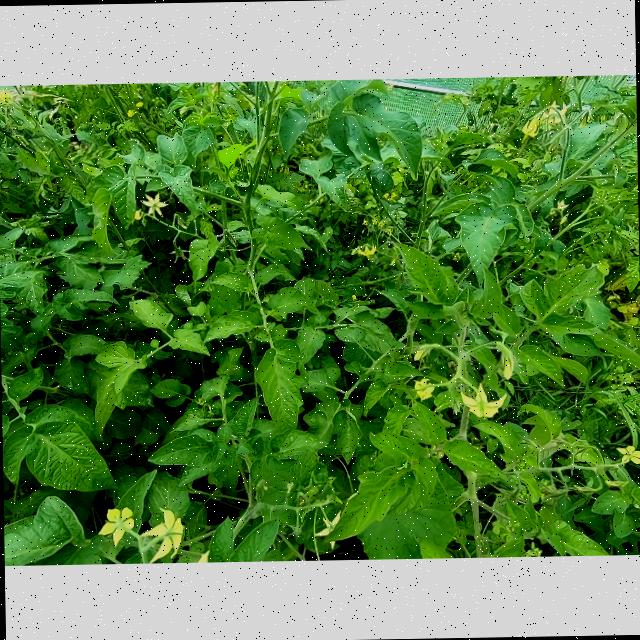Flowers: (139, 508, 184, 562), (458, 380, 506, 418), (98, 506, 134, 548), (314, 511, 339, 549), (540, 100, 566, 128), (140, 192, 168, 218), (496, 346, 516, 382), (614, 443, 640, 465), (413, 377, 435, 401), (518, 114, 536, 143), (412, 342, 439, 360), (352, 242, 376, 258), (0, 88, 13, 107), (606, 478, 626, 488), (382, 192, 398, 202), (555, 199, 567, 211), (132, 208, 142, 220), (560, 214, 569, 227), (452, 250, 462, 260), (126, 109, 134, 118), (134, 100, 142, 108), (362, 218, 369, 226), (386, 229, 393, 235), (372, 218, 378, 225), (377, 222, 384, 228)
